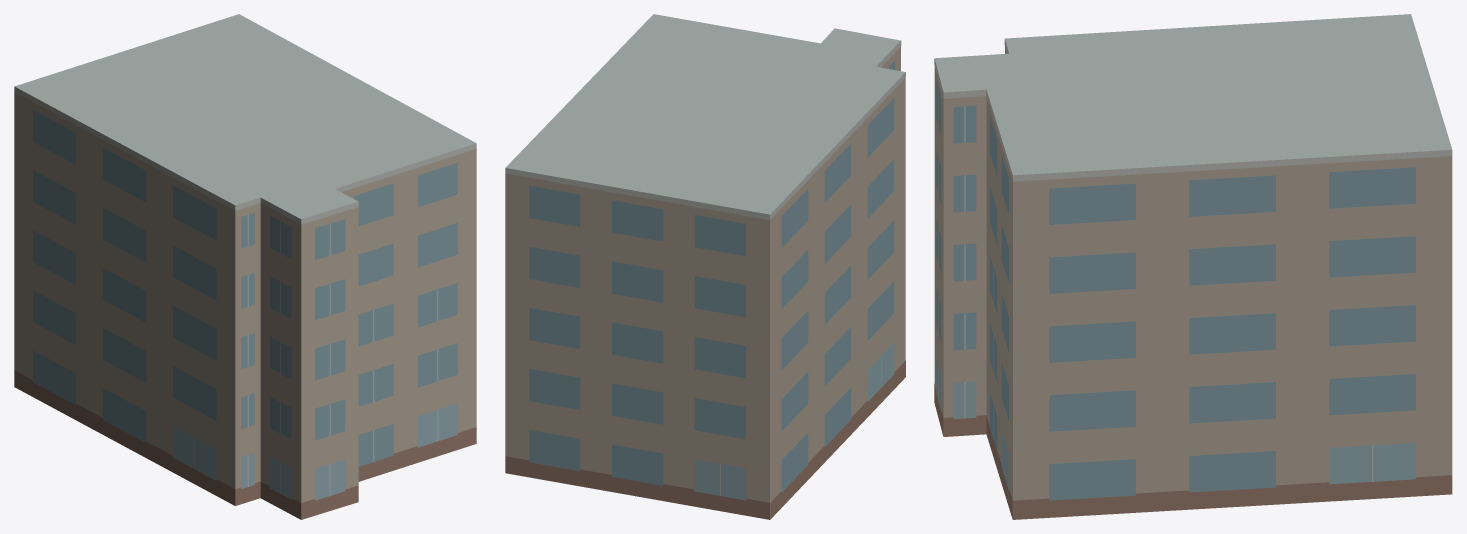
Rendered from survey-upis-32530998.glb.
3 renders of one model, left to right at view 1: azimuth 30°, elevation 25°; view 2: azimuth 150°, elevation 25°; view 3: azimuth 270°, elevation 25°, orthographic. The views are drawn at different scales.
Visible parts, largest first — view 1: survey-upis-32530998.tmp; view 2: survey-upis-32530998.tmp; view 3: survey-upis-32530998.tmp.
Part boxes in pixels (<box>): survey-upis-32530998.tmp: <box>14,14,476,519</box>; survey-upis-32530998.tmp: <box>505,14,905,519</box>; survey-upis-32530998.tmp: <box>934,14,1452,519</box>.
Bounding box in the file's own units: 13.42 × 13.35 × 18.2.
